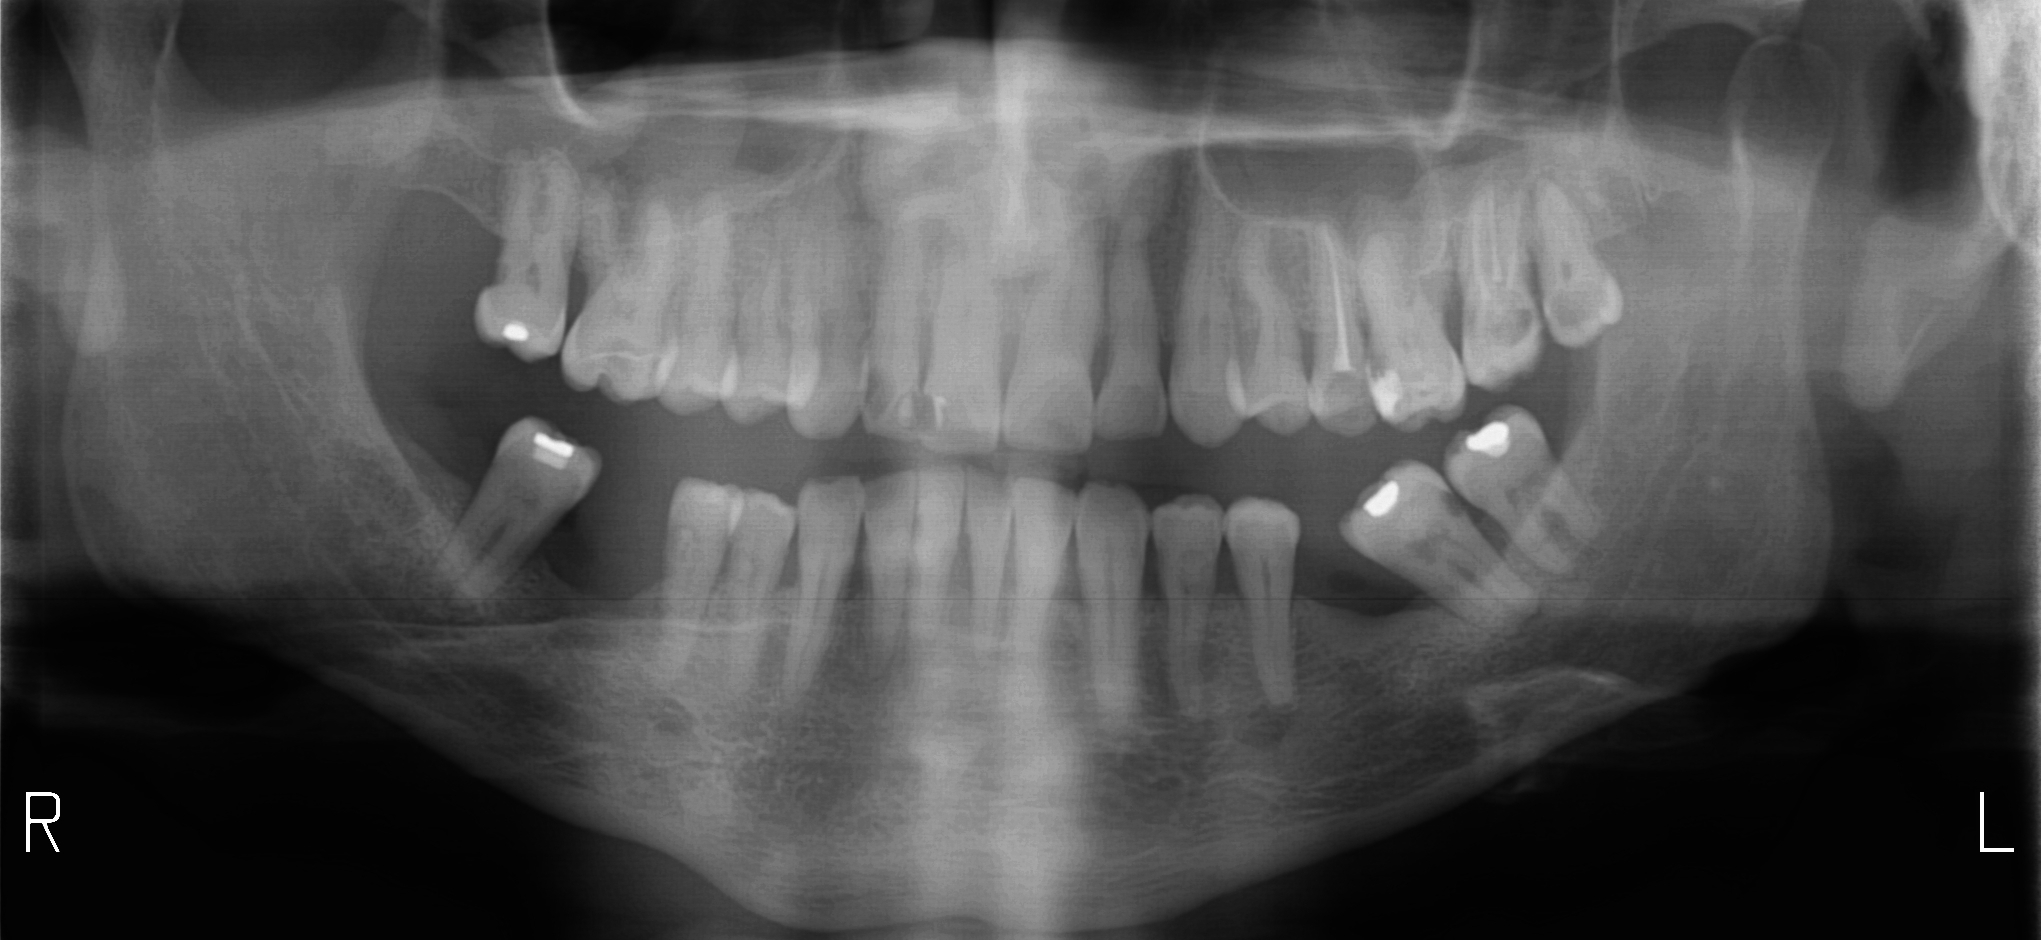cavity: (1555, 283, 1601, 331), (866, 365, 890, 408), (1503, 310, 1532, 344), (1427, 275, 1444, 310), (922, 396, 935, 432), (1442, 491, 1462, 510), (1371, 348, 1382, 372), (493, 264, 504, 279)
